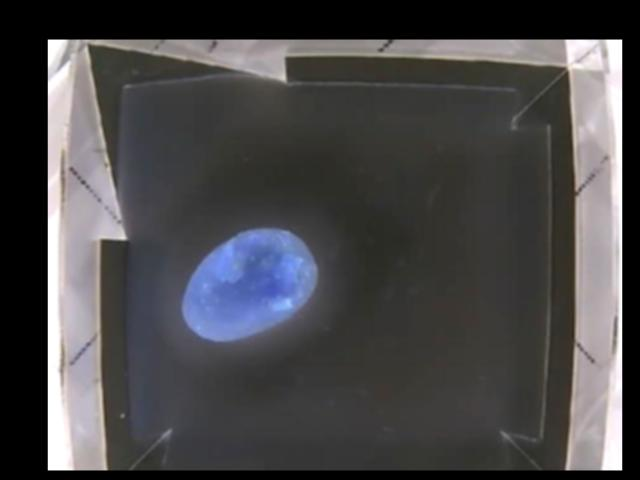Potato: (180, 229, 317, 343)
